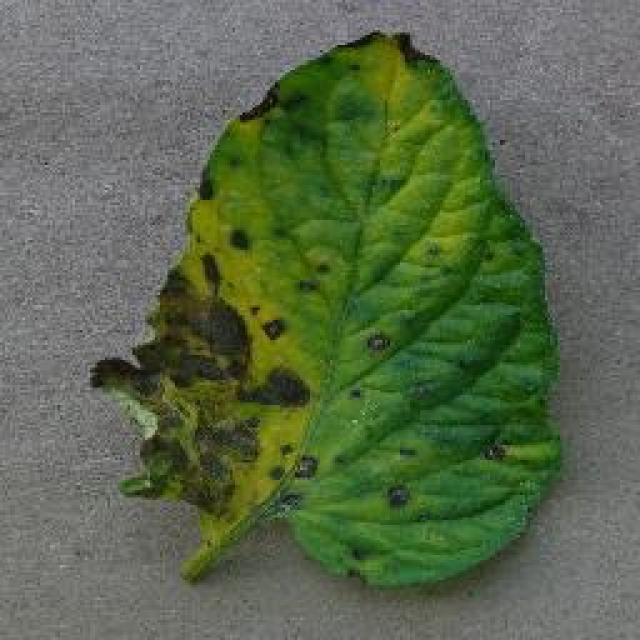leaf blight: (92, 28, 564, 591)
